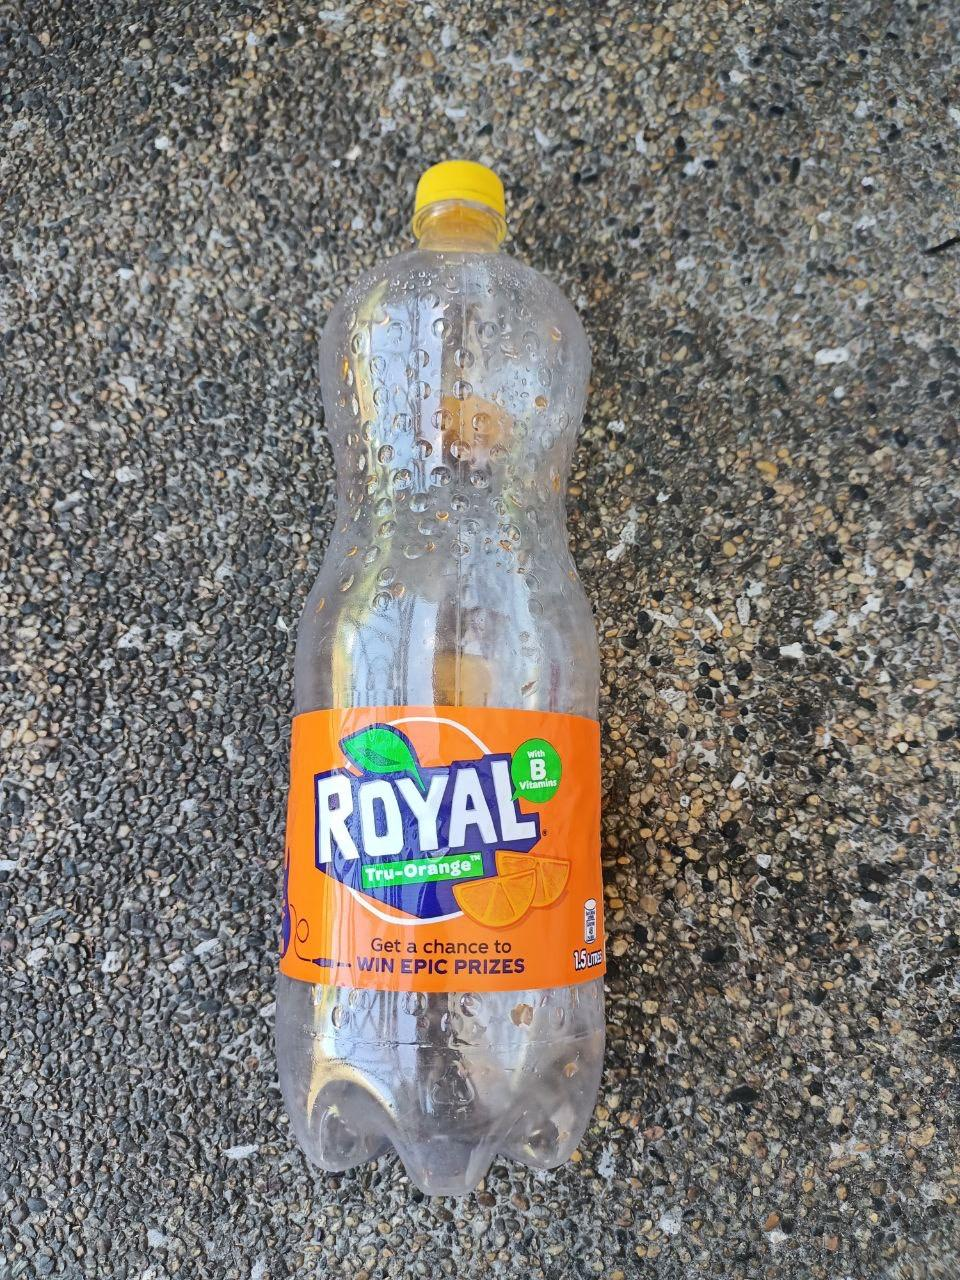plastic: (221, 134, 691, 1220)
